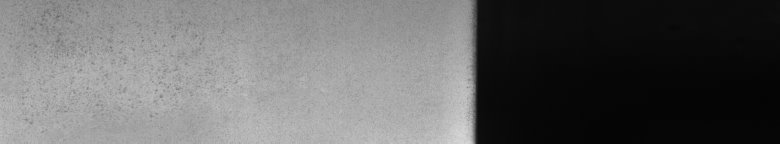ib: (24, 9, 182, 124)
